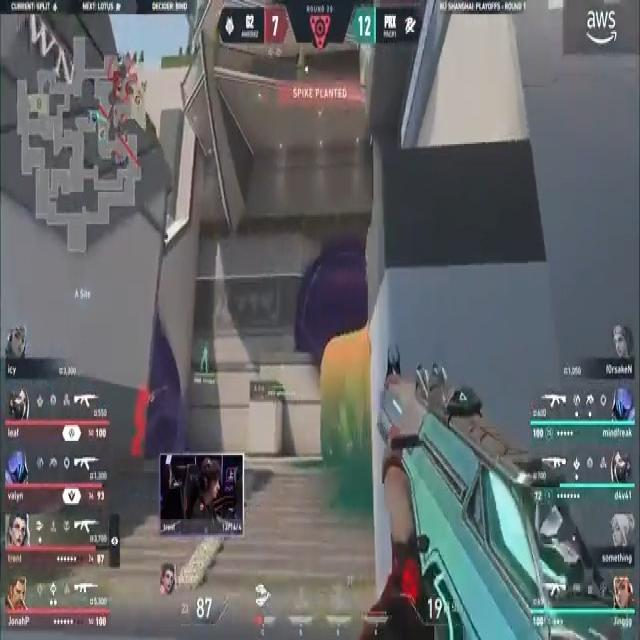ally behind wall: (200, 342, 210, 372)
enemy behind wall: (131, 384, 154, 458)
